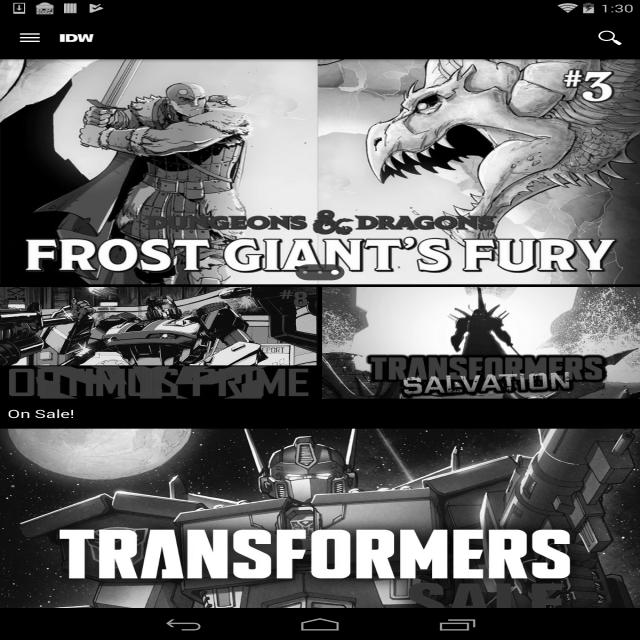ImageButton: (0, 30, 60, 46)
ImageView: (0, 59, 640, 284), (0, 428, 640, 640), (0, 287, 318, 399), (322, 287, 640, 399), (60, 27, 94, 49)
TextView: (0, 401, 640, 426), (580, 22, 640, 54)
